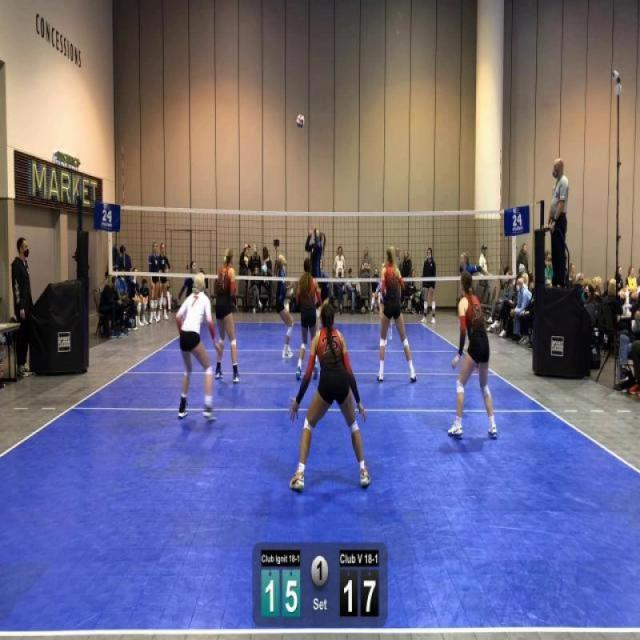volleyball: (295, 112, 306, 131)
